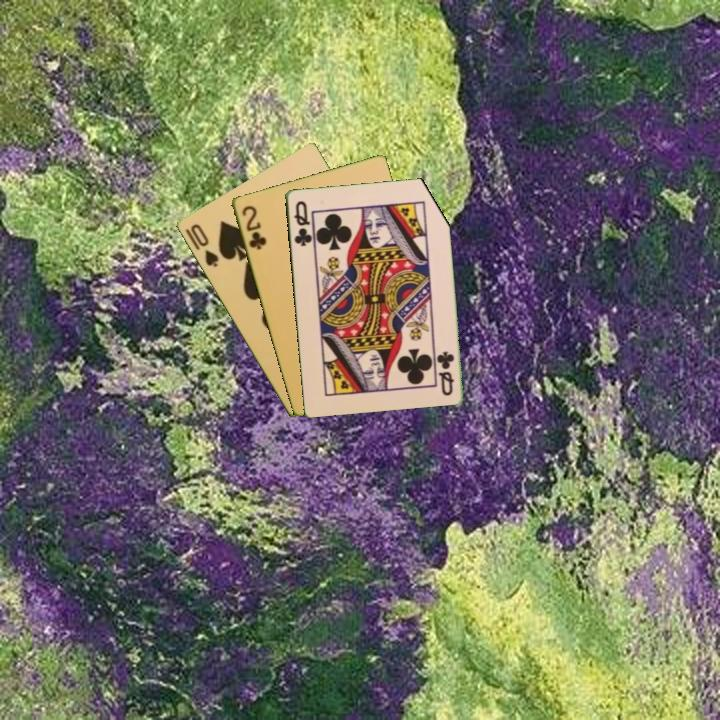10s: (187, 220, 221, 270)
2c: (238, 202, 269, 253)
Qc: (290, 197, 315, 249), (434, 347, 457, 399)
